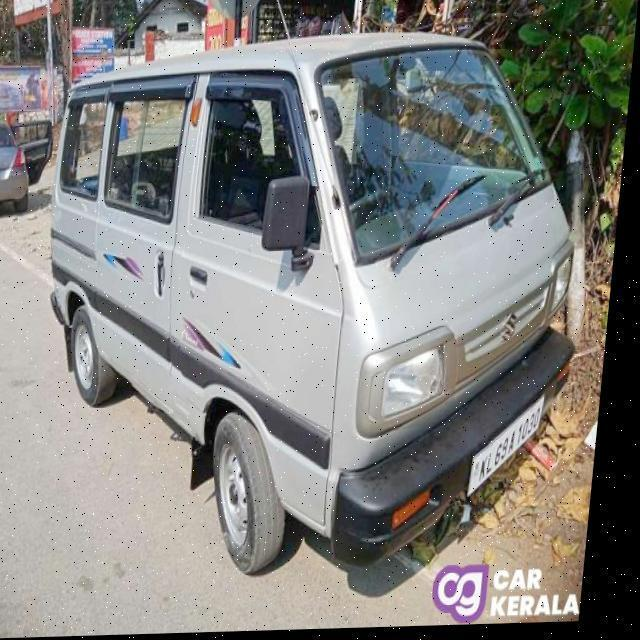car: (0, 116, 41, 218)
van: (19, 23, 608, 588)
